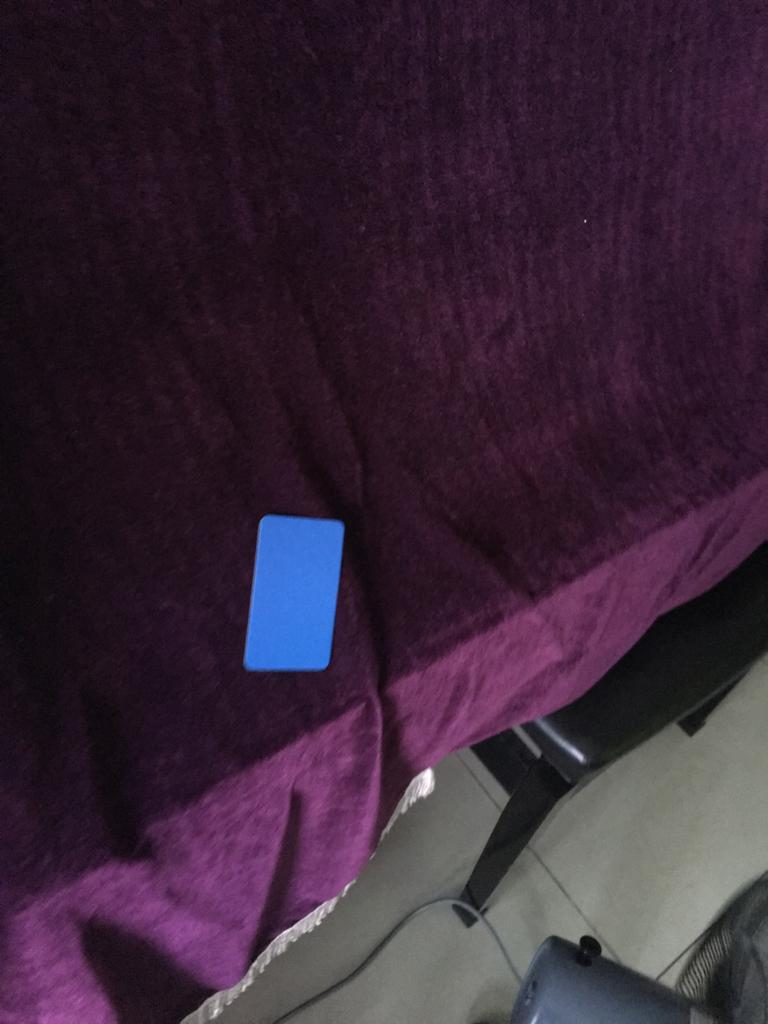blue: (232, 500, 369, 695)
